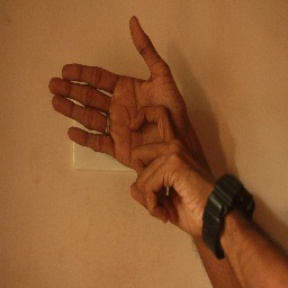R: (55, 15, 194, 211)
